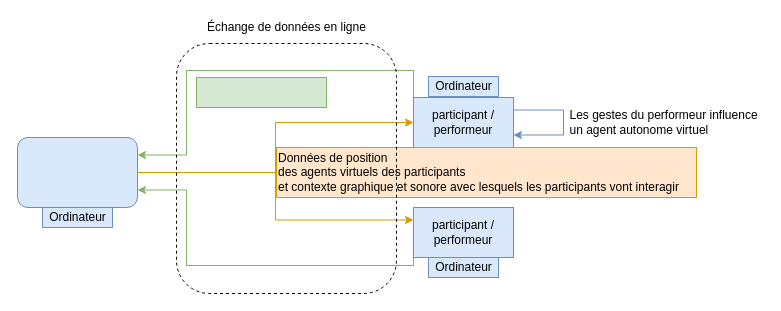
This 781x311 diagram has some shape labels left out. Each missing label, with the centre of its shape:
Données de position de l'agent virtuel: point 261,92
Host / VJ / Régisseur (contrôle de scènes et de la scénographie virtuelle): point 77,172
